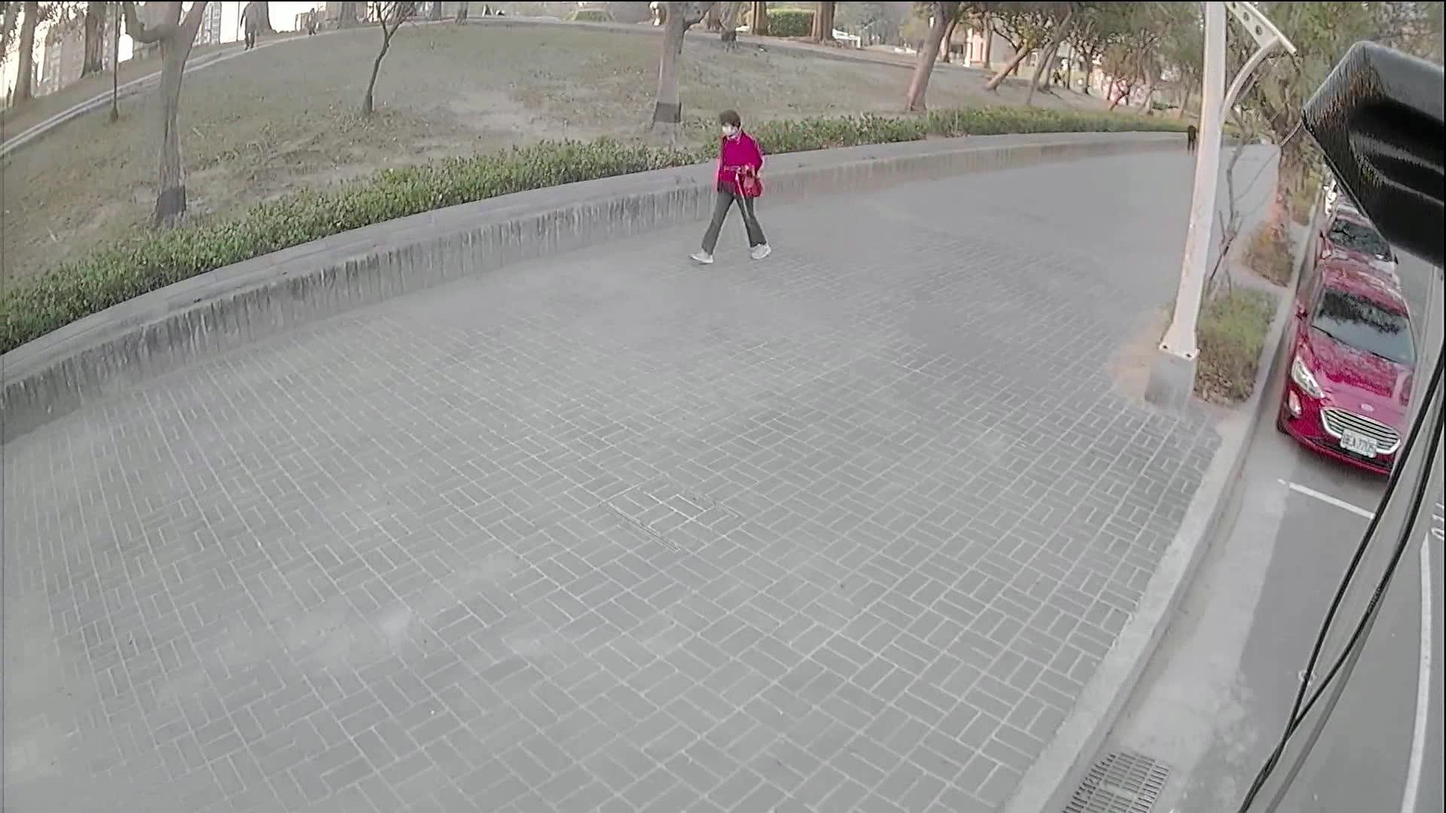person: (701, 109, 771, 260), (1183, 123, 1195, 149)
